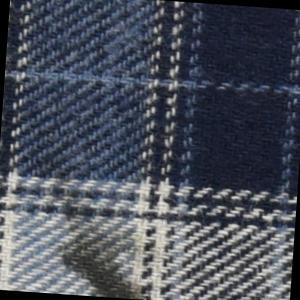Stain: (50, 193, 161, 300)
